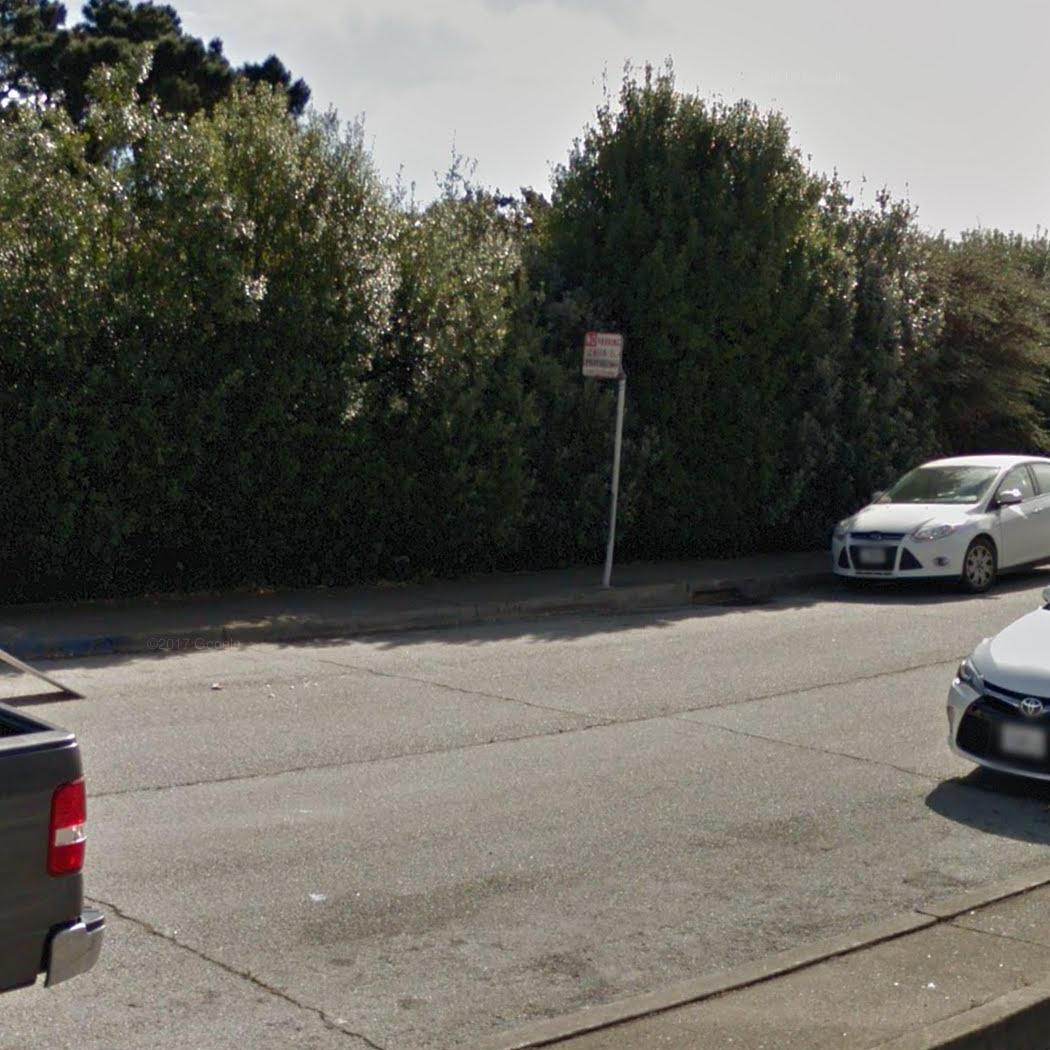No Parking: (580, 330, 626, 379)
